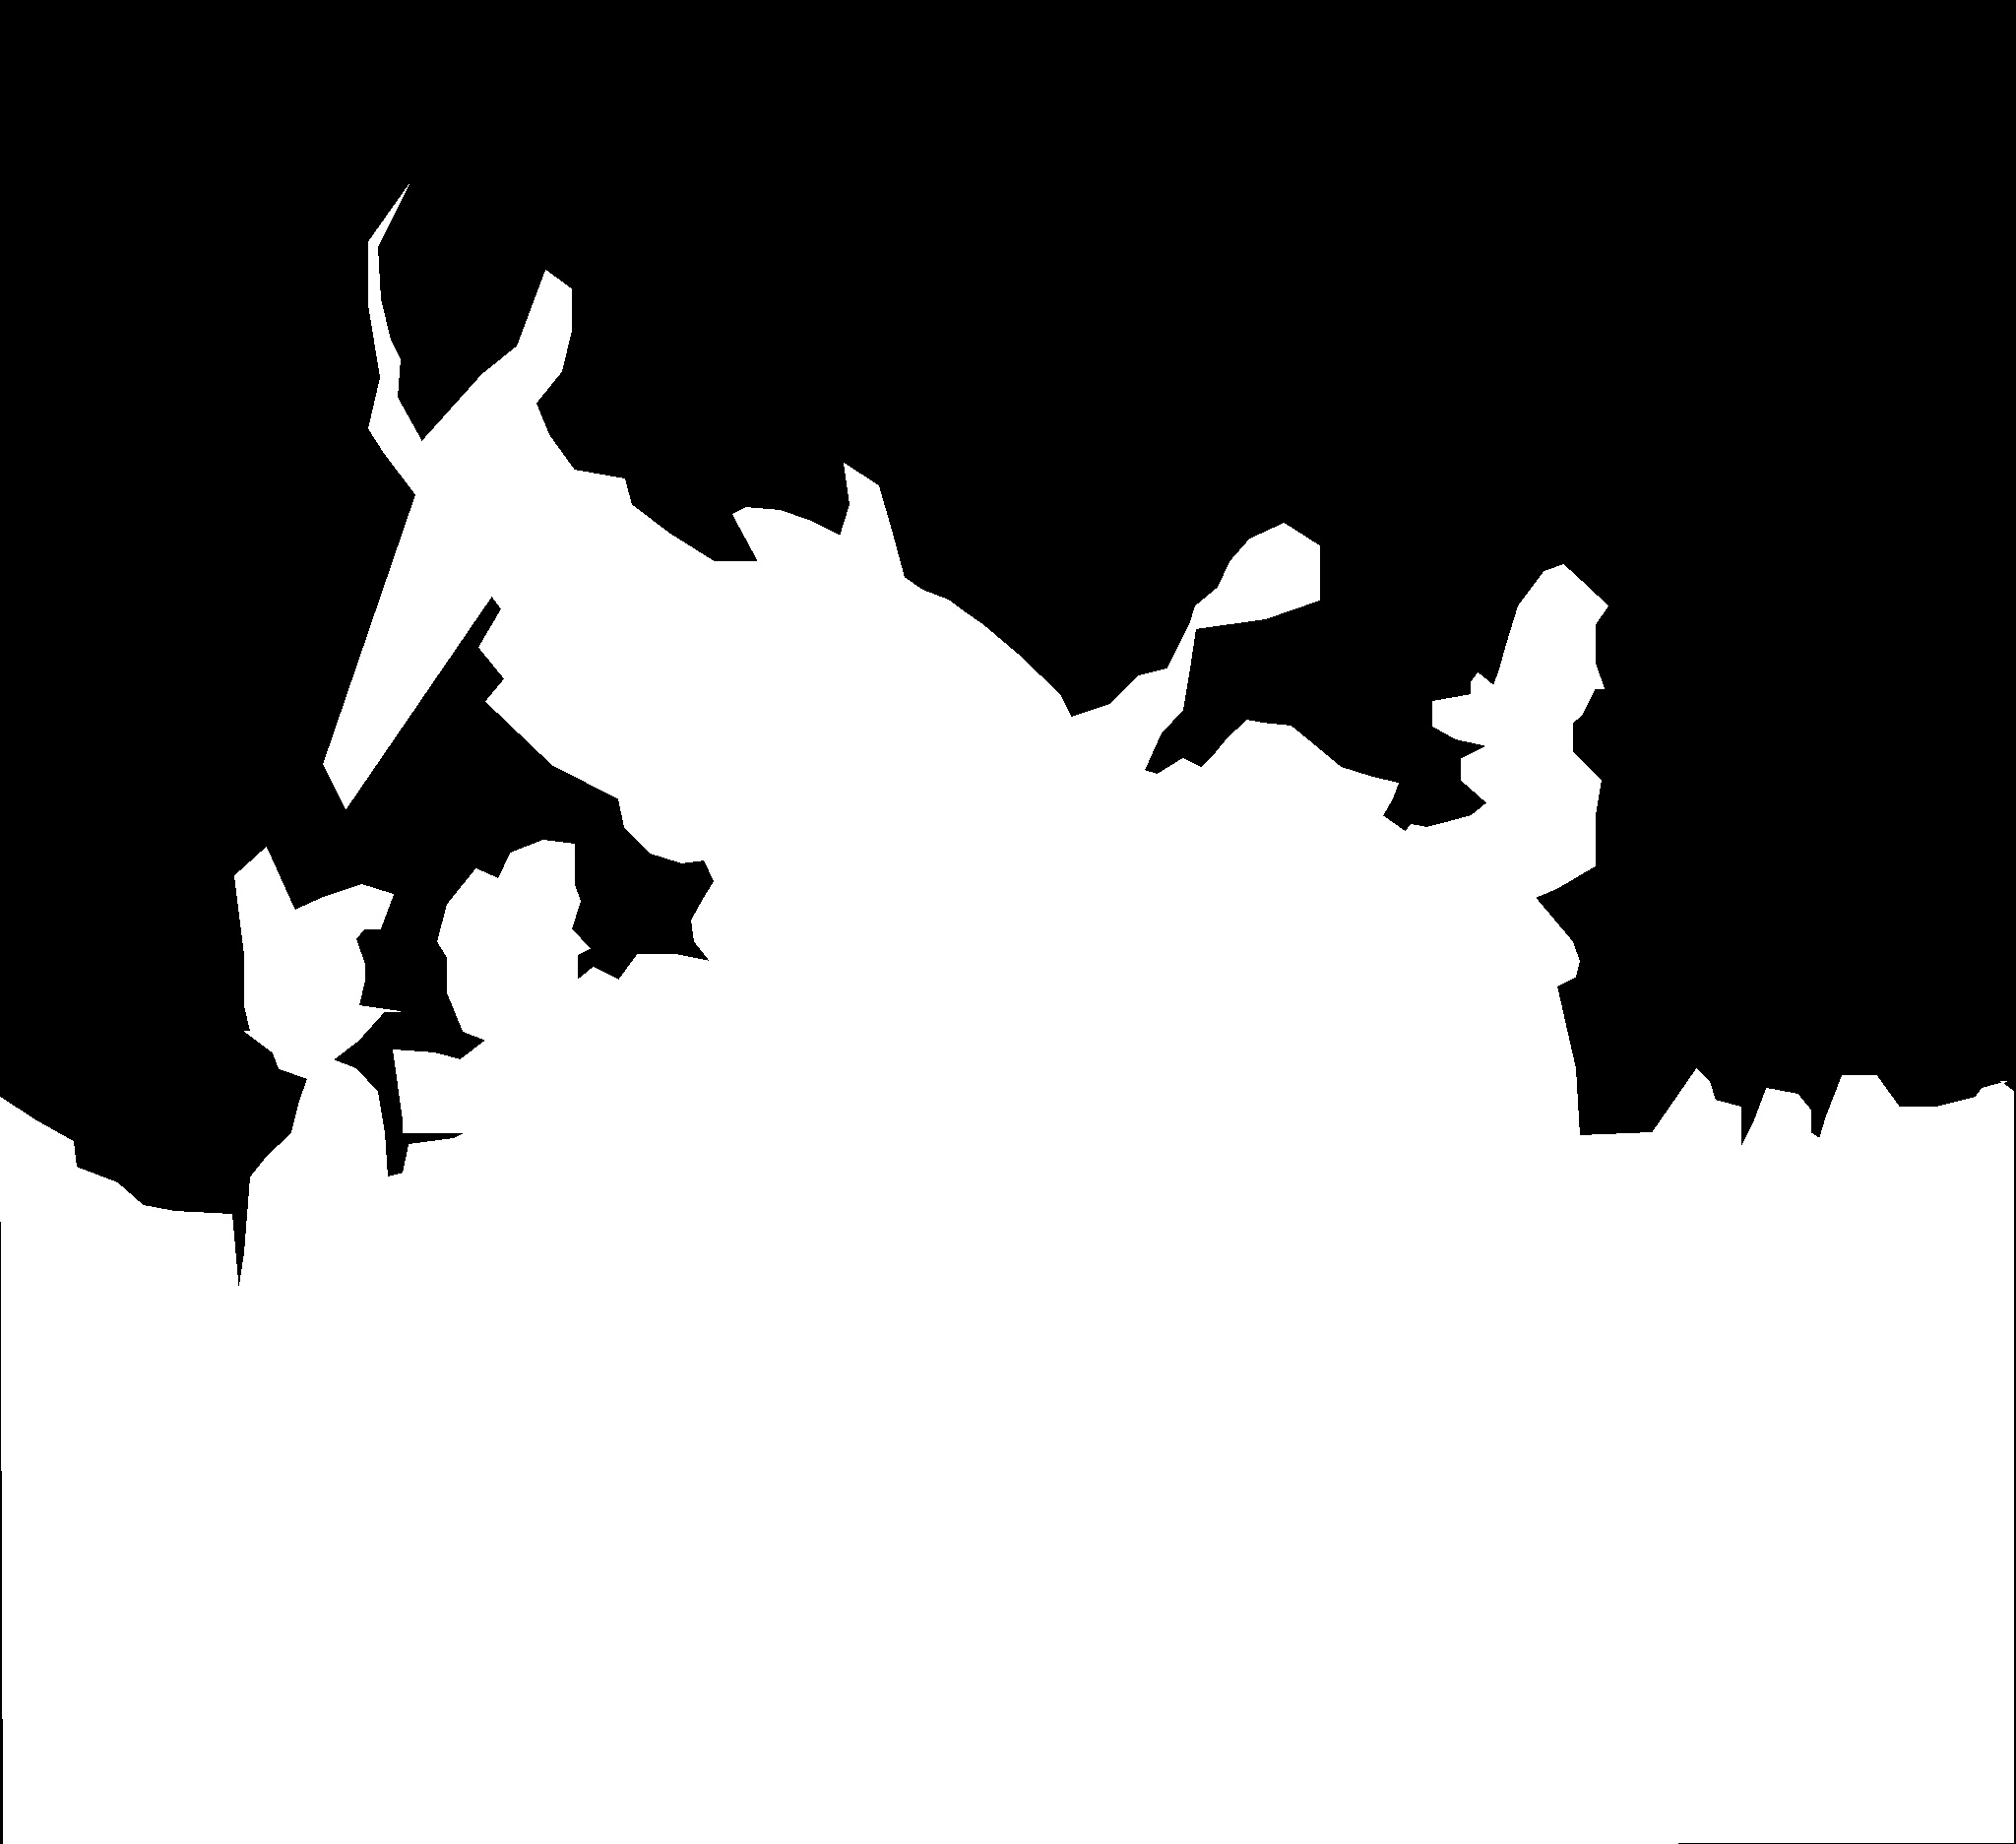Fire: (369, 395, 1421, 1554)
